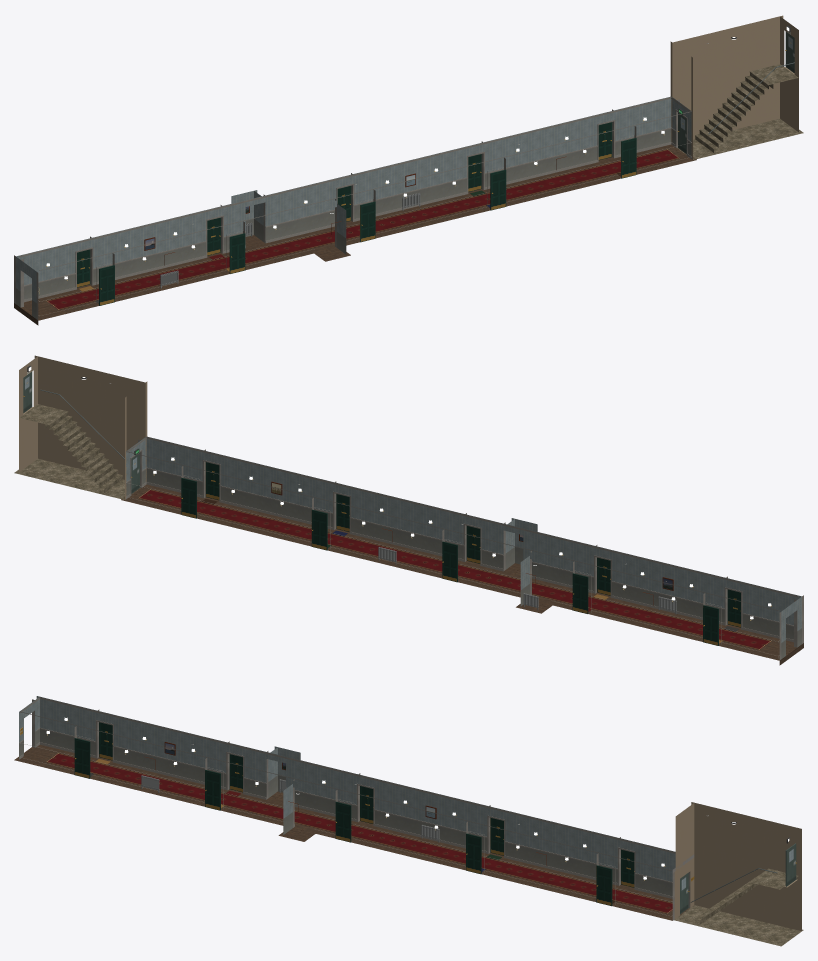
File: floor_3.glb
3 renders of one model, top to bottom at view 1: azimuth 30°, elevation 25°; view 2: azimuth 150°, elevation 25°; view 3: azimuth 330°, elevation 25°, orthographic.
Parts seen in each view (by area): view 1: Wall_Paper, Stair_Wall, Trim_Paint, Floor_Oak, Wall_Wainscot, Floor_Runner, Stair_Concrete, DoorLeaf_room_309, DoorLeaf_room_307, DoorLeaf_room_306, DoorLeaf_room_308, DoorLeaf_room_310 (+1 smaller); view 2: Wall_Paper, Stair_Wall, Trim_Paint, Floor_Oak, Wall_Wainscot, Floor_Runner, Stair_Concrete, Radiator_Paint, DoorLeaf_room_304, DoorLeaf_room_302, DoorLeaf_room_301, DoorLeaf_room_303 (+1 smaller); view 3: Wall_Paper, Stair_Wall, Trim_Paint, Floor_Oak, Floor_Runner, Wall_Wainscot, Stair_Concrete, DoorLeaf_room_310, DoorLeaf_room_308, DoorLeaf_room_306, DoorLeaf_room_309, DoorLeaf_room_307 (+6 smaller).
Part boxes in pixels (x1,y1,x2,y2): Wall_Paper: [16, 96, 691, 302]; Stair_Wall: [670, 15, 798, 159]; Trim_Paint: [14, 97, 691, 320]; Floor_Oak: [14, 144, 696, 325]; Wall_Wainscot: [16, 129, 691, 318]; Floor_Runner: [47, 149, 678, 309]; Stair_Concrete: [677, 64, 803, 159]; DoorLeaf_room_309: [490, 169, 506, 210]; DoorLeaf_room_307: [229, 233, 245, 273]; DoorLeaf_room_306: [99, 265, 114, 305]; DoorLeaf_room_308: [360, 201, 375, 242]; DoorLeaf_room_310: [621, 138, 636, 178]; Wall_Paper: [126, 436, 801, 642]; Stair_Wall: [19, 355, 147, 499]; Trim_Paint: [126, 437, 803, 660]; Floor_Oak: [121, 484, 803, 665]; Wall_Wainscot: [126, 469, 801, 658]; Floor_Runner: [139, 489, 770, 649]; Stair_Concrete: [14, 404, 140, 499]; Radiator_Paint: [378, 547, 676, 614]; DoorLeaf_room_304: [311, 509, 327, 550]; DoorLeaf_room_302: [572, 573, 588, 613]; DoorLeaf_room_301: [703, 605, 718, 645]; DoorLeaf_room_303: [442, 541, 457, 582]; Wall_Paper: [19, 696, 675, 881]; Stair_Wall: [674, 802, 801, 931]; Trim_Paint: [19, 697, 690, 920]; Floor_Oak: [14, 744, 689, 920]; Floor_Runner: [47, 753, 672, 913]; Wall_Wainscot: [19, 729, 672, 896]; Stair_Concrete: [674, 868, 803, 946]; DoorLeaf_room_310: [596, 865, 612, 906]; DoorLeaf_room_308: [335, 801, 351, 842]; DoorLeaf_room_306: [74, 738, 90, 778]; DoorLeaf_room_309: [466, 833, 481, 874]; DoorLeaf_room_307: [205, 770, 220, 810].
Bounding box in the file's own units: 47.01 × 6.3 × 5.
Materials: 19 (16 with a texture image).
